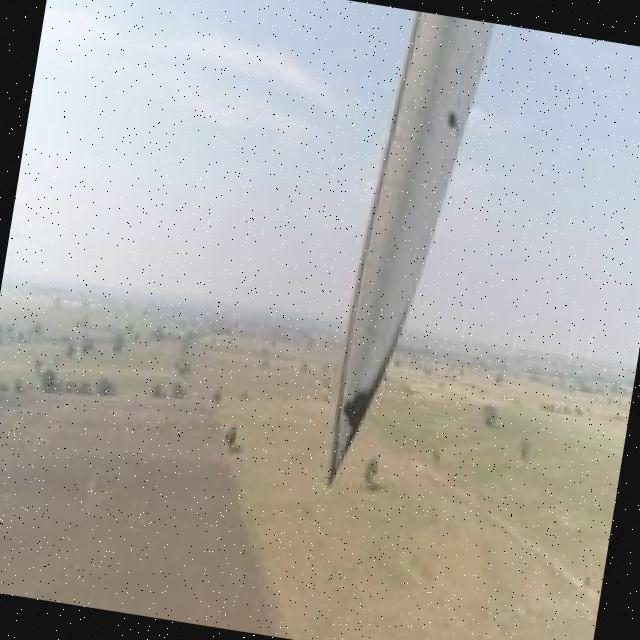Dirt: (331, 11, 496, 480)
Oil LEAKAGE: (329, 329, 404, 483), (445, 108, 458, 130)
